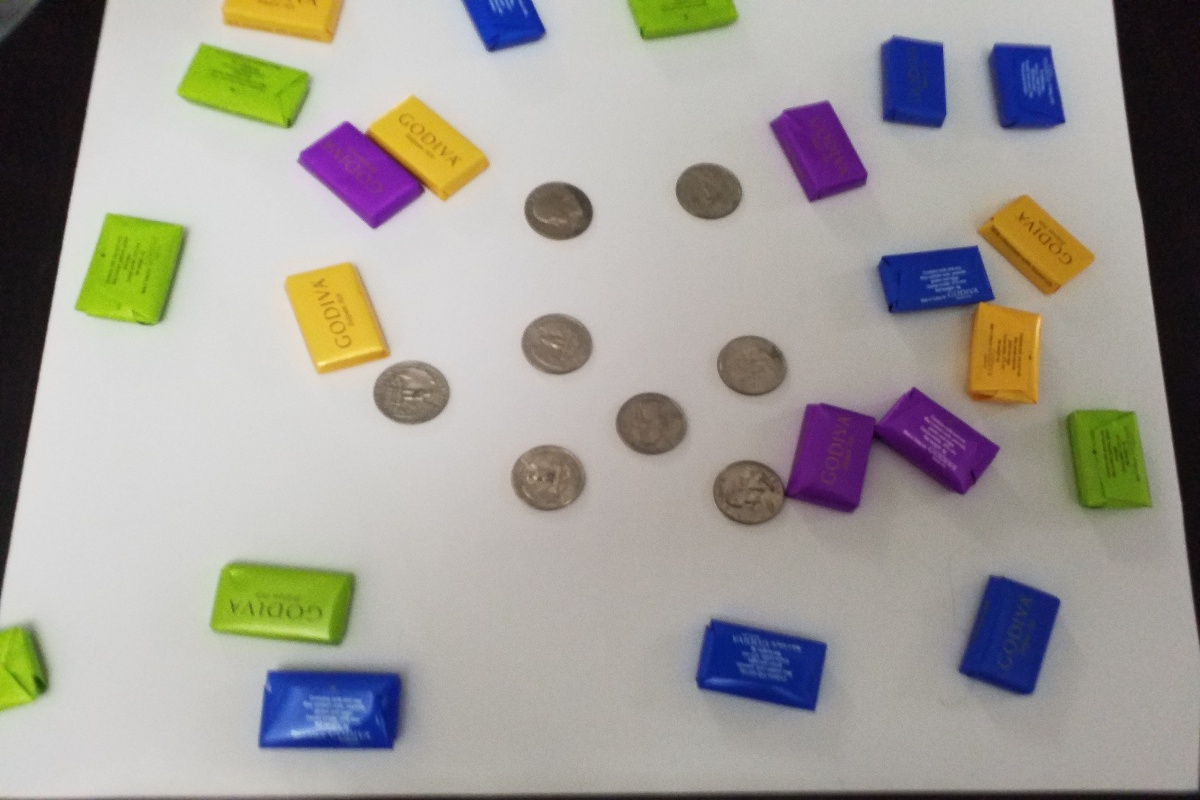chocolate_blue: (682, 601, 842, 718), (954, 563, 1067, 706), (256, 665, 405, 757), (865, 236, 1000, 320), (981, 35, 1070, 140), (873, 29, 955, 132)
chocolate_green: (200, 549, 367, 655), (71, 202, 191, 329), (1051, 395, 1159, 529), (169, 41, 317, 131)
chocolate_purple: (866, 387, 1012, 508), (286, 125, 424, 228), (763, 103, 879, 207), (776, 402, 879, 515)
chocolate_yellow: (361, 85, 494, 204), (972, 184, 1095, 305), (282, 259, 392, 380), (962, 299, 1046, 410)
coin_quarter: (502, 438, 595, 517), (509, 303, 598, 385), (664, 149, 750, 231), (609, 388, 694, 463), (367, 358, 455, 430), (708, 330, 798, 399), (705, 457, 791, 528), (513, 177, 601, 246)
